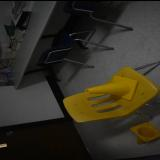cone: (84, 74, 138, 100), (129, 120, 160, 144)
